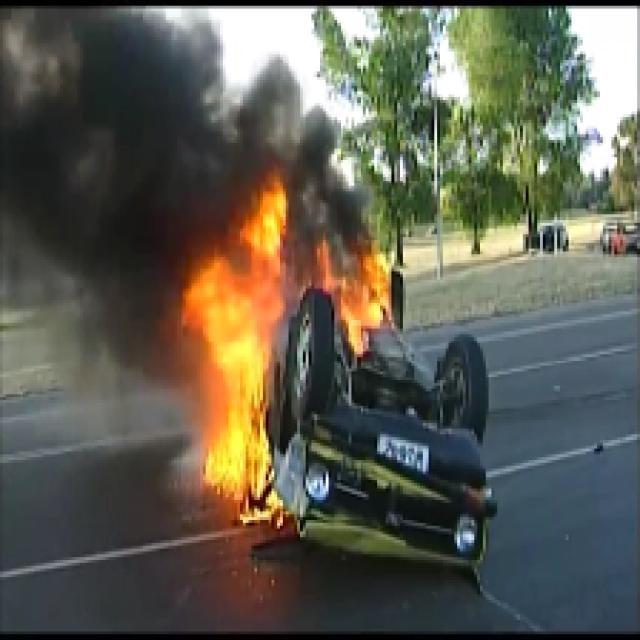Fire: (182, 215, 416, 519)
Smoke: (21, 9, 353, 213), (21, 211, 179, 386)
